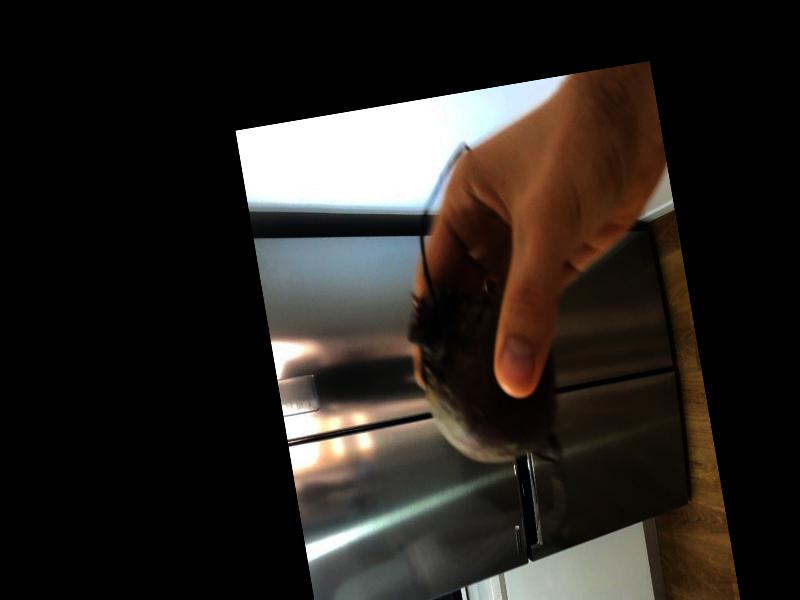Beet: (379, 137, 572, 504)
